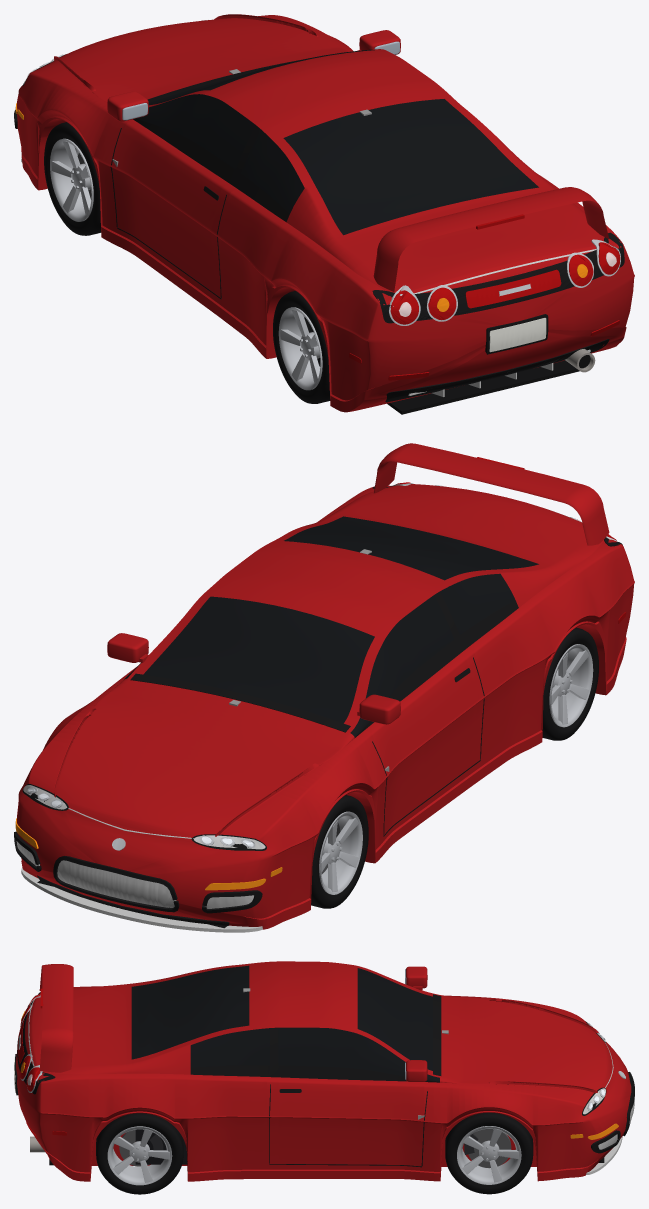
The model's file is ToyotaSupra_MK4.obj.
3 renders of one model, top to bottom at view 1: azimuth 30°, elevation 25°; view 2: azimuth 150°, elevation 25°; view 3: azimuth 270°, elevation 25°, orthographic. The views are drawn at different scales.
Visible parts, largest first — view 1: Body, TrunkGlass, Trunk, Hood, Door_L, Wing, DoorGlass_L, TailLights, Glass, Trim2, Trim, Rim_FL (+9 smaller); view 2: Body, Hood, Glass, Trunk, Door_L, TrunkGlass, Trim2, Wing, DoorGlass_L, Grille, Rim_RL, Rim_FL (+7 smaller); view 3: Body, Door_R, Hood, Trunk, TrunkGlass, Glass, DoorGlass_R, Wing, Tire_FR, Tire_RR, DoorTrim_R, Trim2 (+8 smaller).
Part boxes in pixels (bbox=[...]): Body: bbox=[17, 15, 634, 412]; TrunkGlass: bbox=[283, 99, 538, 235]; Trunk: bbox=[274, 98, 603, 293]; Hood: bbox=[54, 14, 348, 102]; Door_L: bbox=[111, 120, 236, 306]; Wing: bbox=[373, 187, 609, 291]; DoorGlass_L: bbox=[137, 94, 255, 169]; TailLights: bbox=[390, 214, 620, 324]; Glass: bbox=[148, 49, 374, 213]; Trim2: bbox=[14, 54, 624, 402]; Trim: bbox=[383, 250, 624, 384]; Rim_FL: bbox=[50, 138, 93, 221]; Body: bbox=[17, 485, 634, 929]; Hood: bbox=[54, 680, 352, 836]; Glass: bbox=[143, 573, 515, 723]; Trunk: bbox=[275, 484, 603, 607]; Door_L: bbox=[365, 648, 486, 842]; TrunkGlass: bbox=[284, 516, 538, 580]; Trim2: bbox=[14, 485, 622, 925]; Wing: bbox=[374, 443, 609, 545]; DoorGlass_L: bbox=[350, 595, 454, 736]; Grille: bbox=[16, 841, 253, 908]; Rim_RL: bbox=[549, 644, 593, 727]; Rim_FL: bbox=[319, 811, 362, 894]; Body: bbox=[16, 961, 631, 1181]; Door_R: bbox=[267, 1077, 424, 1170]; Hood: bbox=[442, 995, 605, 1093]; Trunk: bbox=[29, 963, 249, 1074]; TrunkGlass: bbox=[131, 965, 249, 1059]; Glass: bbox=[190, 968, 432, 1070]; DoorGlass_R: bbox=[278, 1027, 439, 1081]; Wing: bbox=[39, 964, 73, 1072]; Tire_FR: bbox=[445, 1112, 533, 1194]; Tire_RR: bbox=[96, 1113, 183, 1194]; DoorTrim_R: bbox=[269, 1027, 439, 1167]; Trim2: bbox=[35, 992, 634, 1162].
Size of the model in its own units: 6.51 by 4.54 by 16.19.
